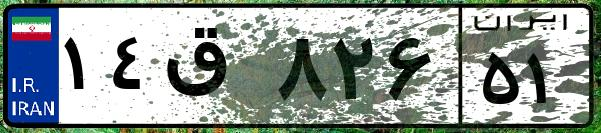1: (57, 26, 110, 100), (525, 38, 570, 115)
2: (330, 28, 385, 110)
4: (110, 28, 158, 98)
5: (475, 38, 525, 113)
6: (385, 28, 445, 110)
8: (270, 28, 330, 110)
ق: (158, 20, 270, 120)
